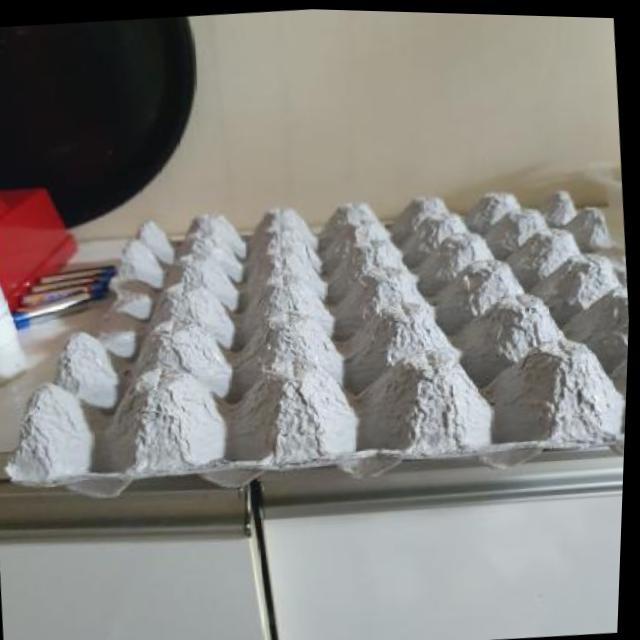box: (0, 131, 636, 560)
